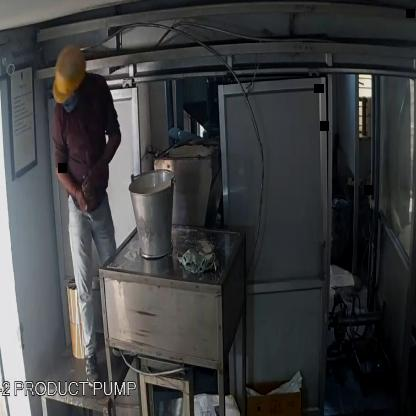helmet: (50, 44, 89, 110)
